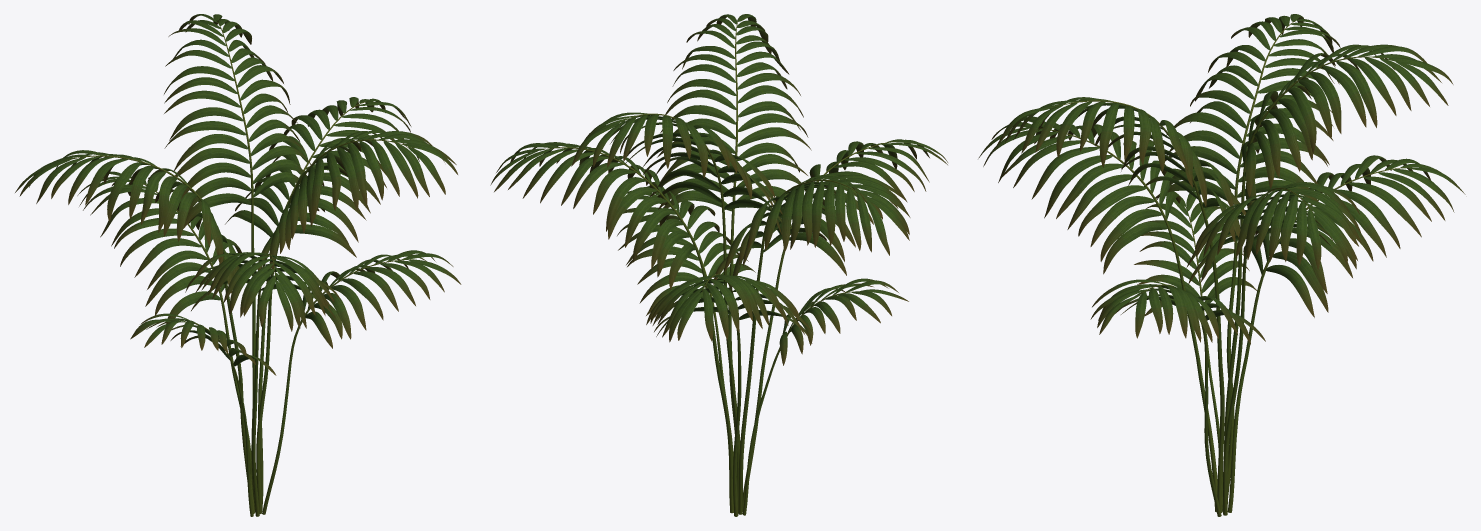
Rendered from howea_f_a002.gltf.
3 renders of one model, left to right at view 1: azimuth 30°, elevation 25°; view 2: azimuth 150°, elevation 25°; view 3: azimuth 270°, elevation 25°, orthographic. The views are drawn at different scales.
Parts seen in each view (by area): view 1: Howea_f__A002; view 2: Howea_f__A002; view 3: Howea_f__A002.
Boxes of the visible parts, bbox=[...] form: Howea_f__A002: bbox=[15, 14, 461, 516]; Howea_f__A002: bbox=[490, 14, 947, 516]; Howea_f__A002: bbox=[978, 14, 1465, 516].
Size of the model in its own units: 3.46 by 3.6 by 3.35.
2 materials, 2 textured.
